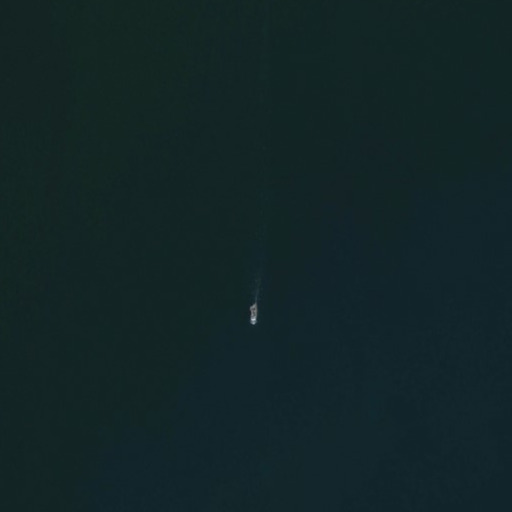ship: (245, 299, 260, 329)
